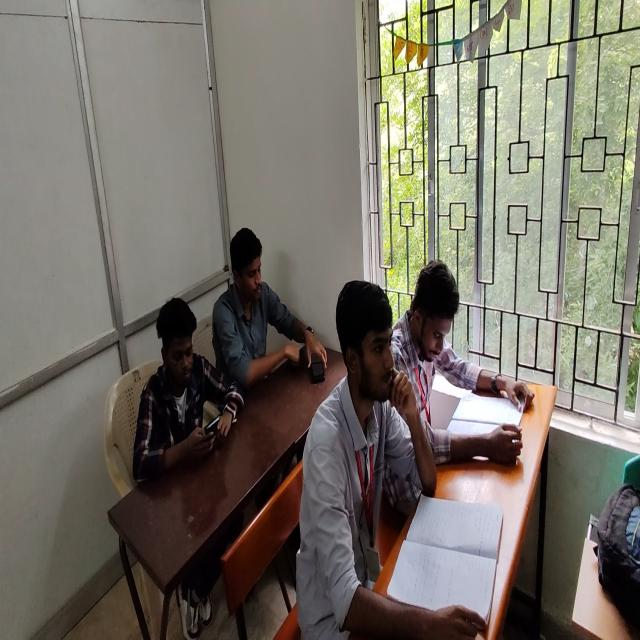listening: (297, 280, 457, 639)
reading: (394, 256, 535, 486)
using_mobile: (132, 294, 246, 484), (212, 227, 319, 410)
